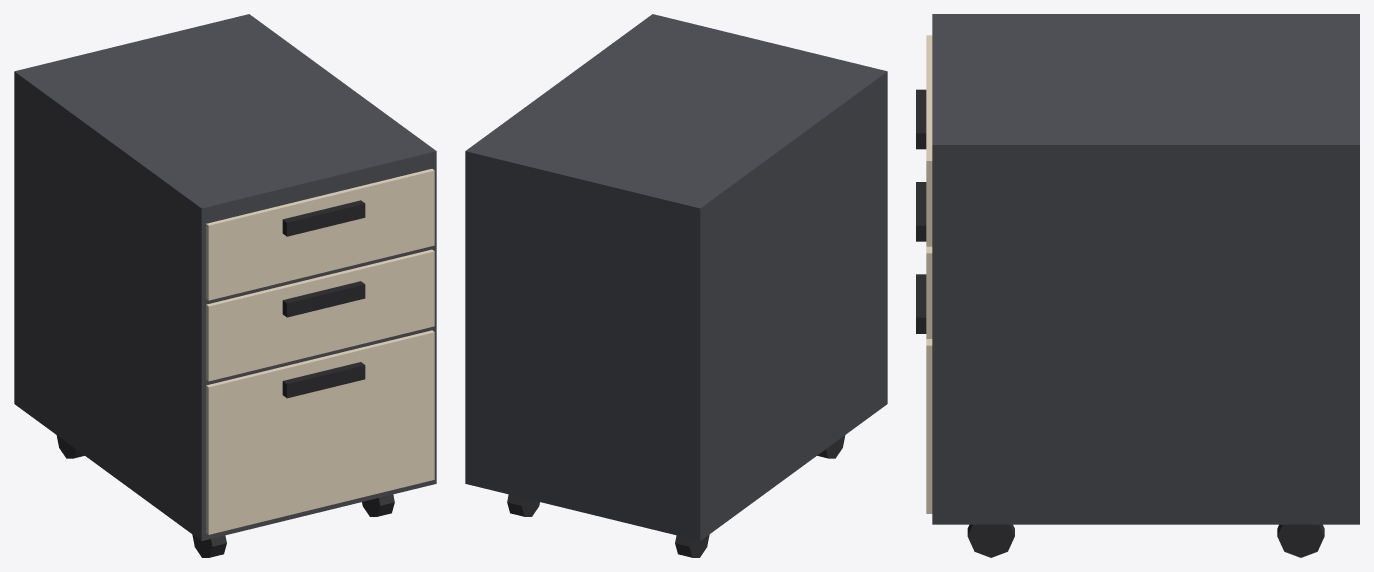
File: FN_Pedestal_Filing.obj
3 renders of one model, left to right at view 1: azimuth 30°, elevation 25°; view 2: azimuth 150°, elevation 25°; view 3: azimuth 270°, elevation 25°, orthographic. The views are drawn at different scales.
Parts seen in each view (by area): view 1: FN_Pedestal_Filing; view 2: FN_Pedestal_Filing; view 3: FN_Pedestal_Filing.
Boxes of the visible parts, <box> form: FN_Pedestal_Filing: <box>14,14,436,557</box>; FN_Pedestal_Filing: <box>465,14,887,557</box>; FN_Pedestal_Filing: <box>916,14,1359,557</box>.
Bounding box in the file's own units: 0.42 × 0.64 × 0.602.
1 material, 1 textured.
